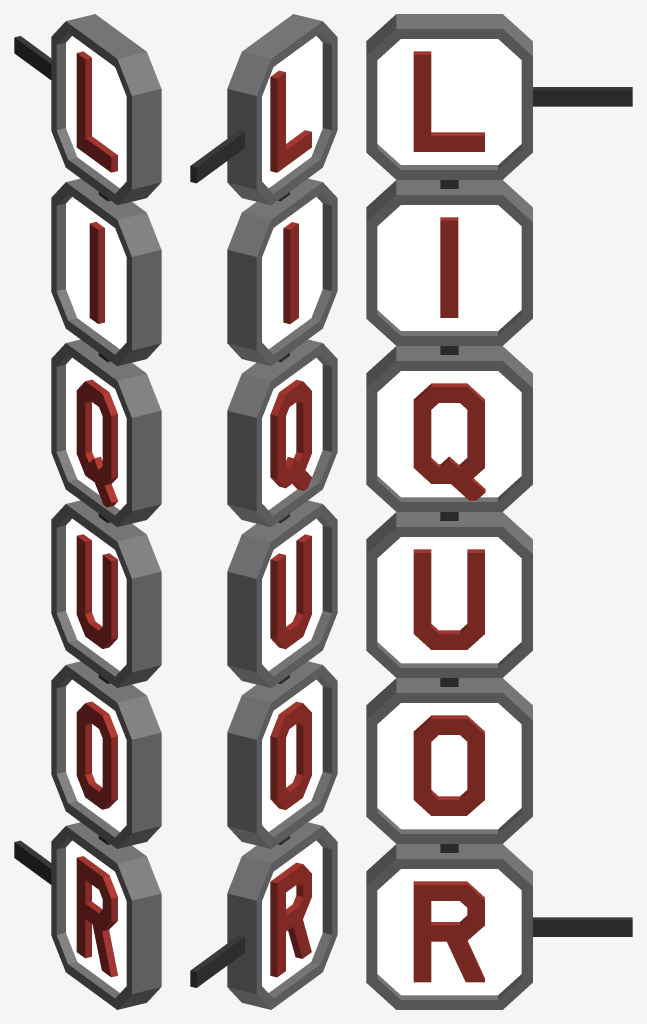
File: SM_shopNeon_05.glb
The picture shows the model from 3 angles, left to right: view 1: azimuth 30°, elevation 25°; view 2: azimuth 150°, elevation 25°; view 3: azimuth 270°, elevation 25°; orthographic projection. The views are drawn at different scales.
Parts seen in each view (by area): view 1: SM_shopNeon_05; view 2: SM_shopNeon_05; view 3: SM_shopNeon_05.
Boxes of the visible parts, box(x1,y1,x2,y2) form: SM_shopNeon_05: box(14, 14, 161, 1009); SM_shopNeon_05: box(190, 14, 337, 1009); SM_shopNeon_05: box(366, 14, 632, 1009).
Bounding box in the file's own units: 0.1007 × 3.09 × 0.7617.
1 material, 1 textured.
